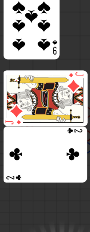4C: (6, 173, 23, 181)
9C: (52, 38, 59, 55)
